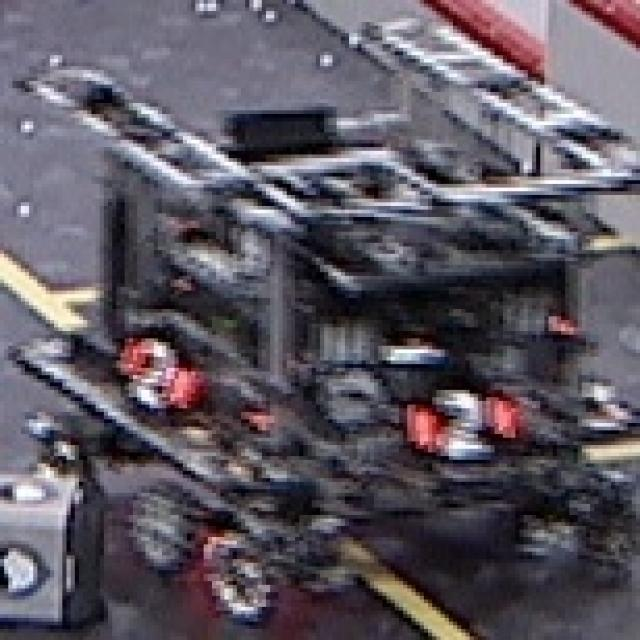R2: (403, 386, 515, 456), (112, 335, 200, 412)
